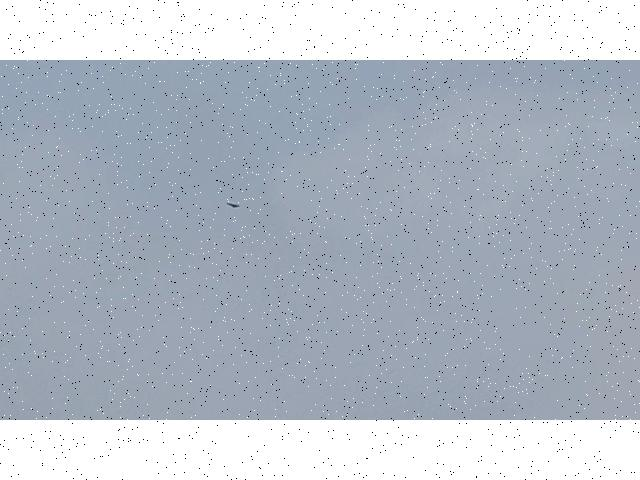Anti-Drone: (226, 200, 242, 210)
